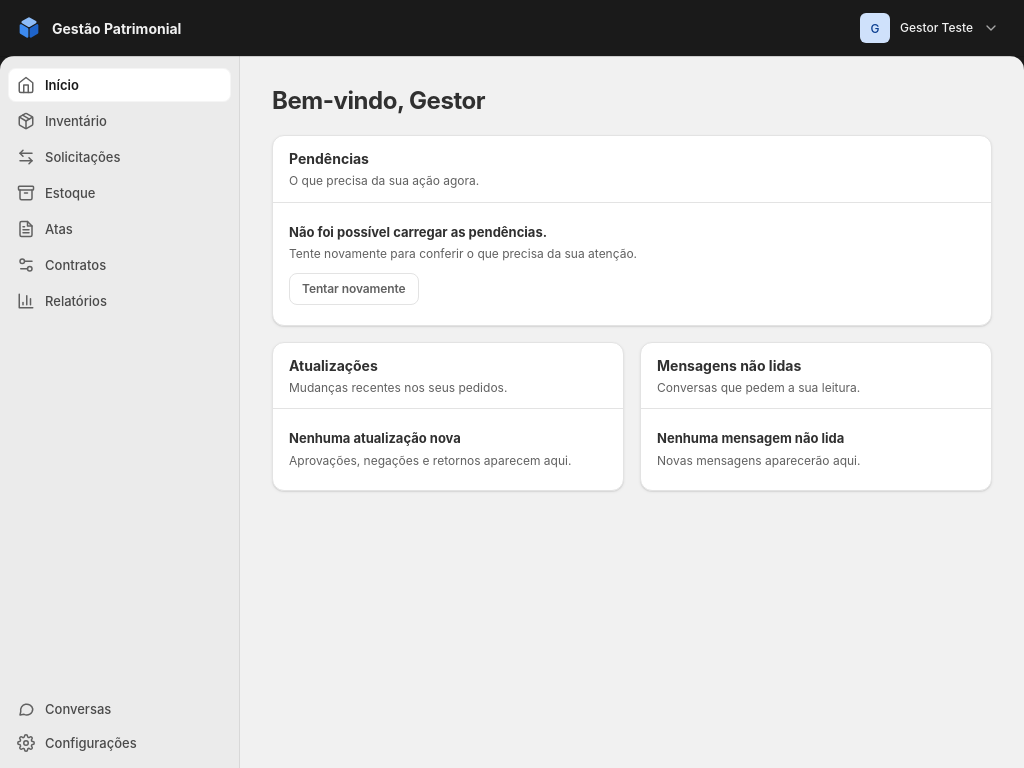
Test: permite tentar novamente quando as pendências falham
Check: the text "Não foi possível carregar as pendências." is shown, box [289,223,547,241]
Click the button "Tentar novamente": (354, 289) [289,273,418,305]
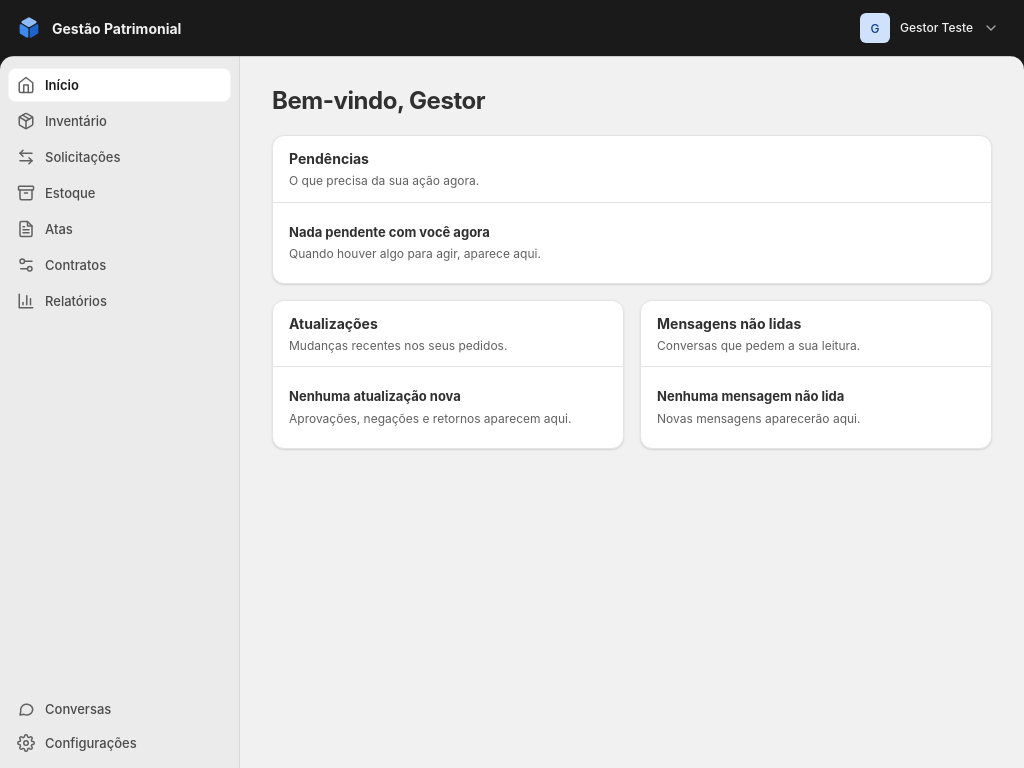
Check: the text "Nada pendente com você agora" is shown, box [289,223,490,241]
